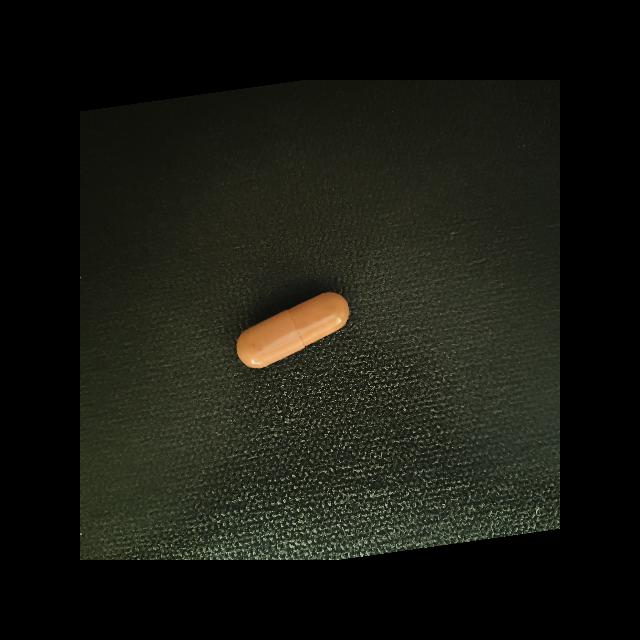Intact Capsule: (237, 292, 350, 368)
